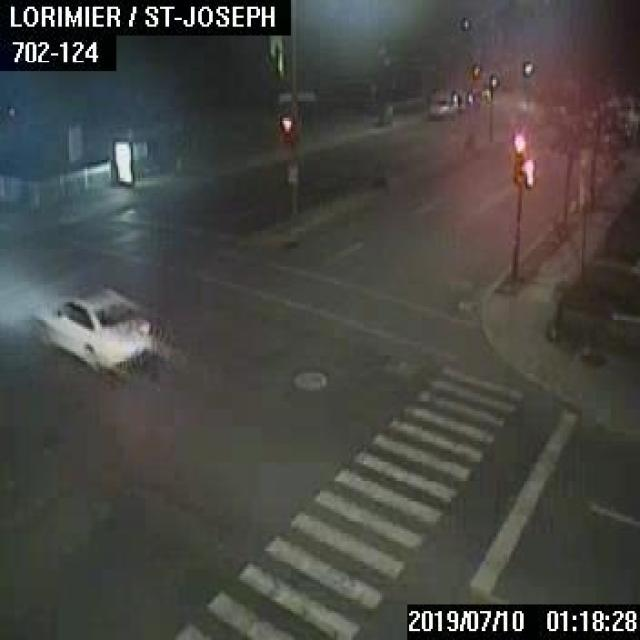vehicle: (35, 287, 149, 371), (427, 90, 458, 118)
